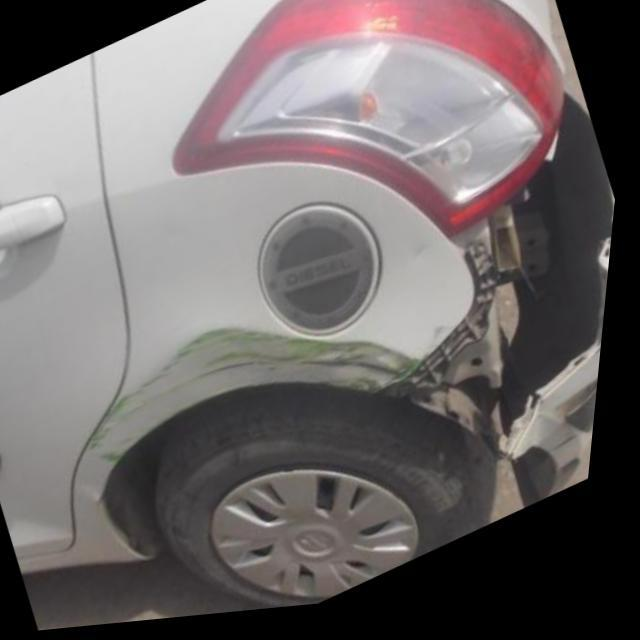dislocated part: (402, 103, 620, 466)
rub: (94, 324, 443, 464)
